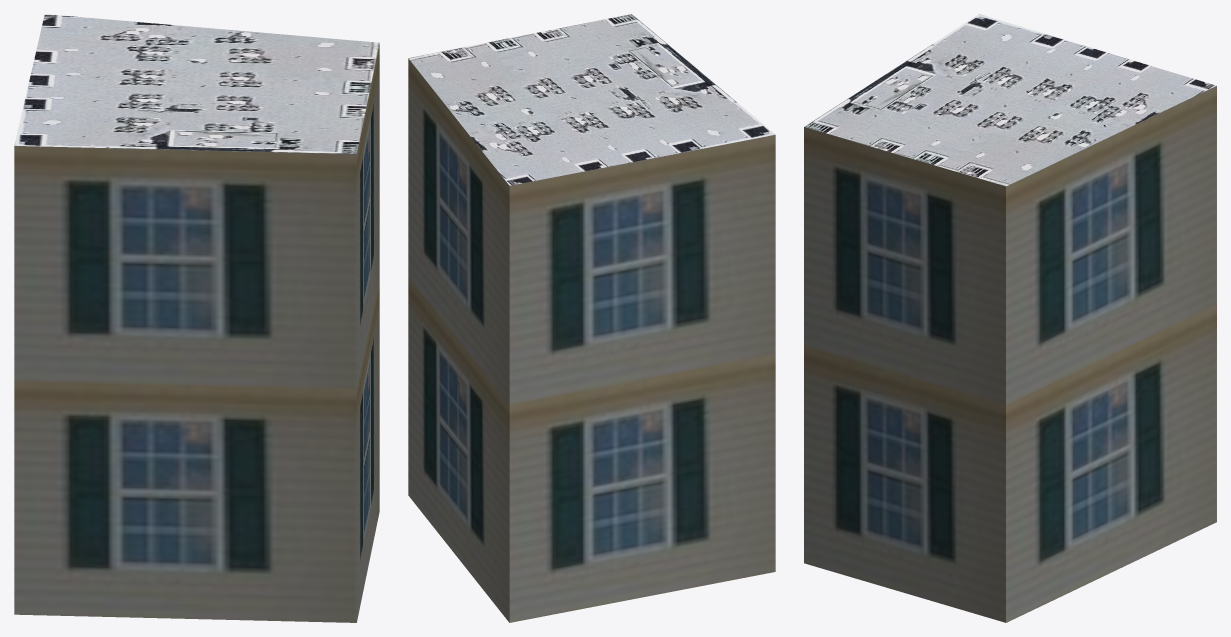
The model's file is ResTex__2269.fbx.
3 renders of one model, left to right at view 1: azimuth 30°, elevation 25°; view 2: azimuth 150°, elevation 25°; view 3: azimuth 270°, elevation 25°, orthographic. The views are drawn at different scales.
Visible parts, largest first — view 1: CityEngineMaterial_7_m, CityEngineMaterial_m; view 2: CityEngineMaterial_7_m, CityEngineMaterial_m; view 3: CityEngineMaterial_7_m, CityEngineMaterial_m.
Boxes of the visible parts, box(x1,y1,x2,y2) form: CityEngineMaterial_7_m: box(14, 44, 379, 622); CityEngineMaterial_m: box(14, 14, 379, 153); CityEngineMaterial_7_m: box(408, 58, 775, 622); CityEngineMaterial_m: box(408, 14, 775, 185); CityEngineMaterial_7_m: box(804, 86, 1216, 622); CityEngineMaterial_m: box(804, 14, 1216, 186).
Bounding box in the file's own units: 5.09 × 6 × 5.14.
Materials: 2 (2 with a texture image).
